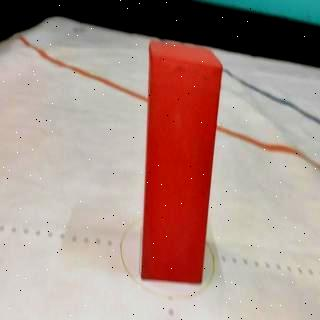redbox: (140, 41, 224, 286)
